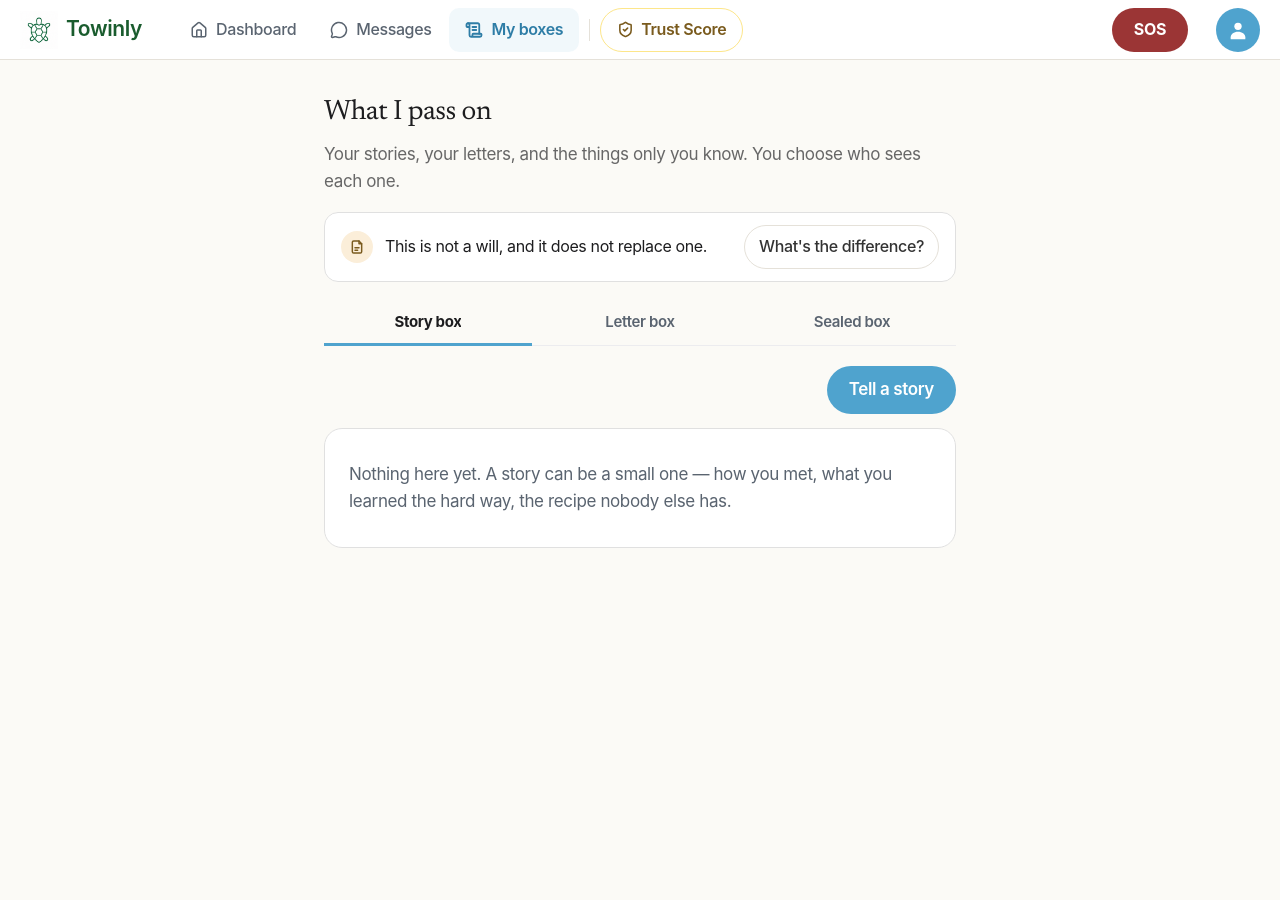
What I pass on — Story box › steers her away from the answers a bank would ask for
Click the button "Tell a story" at {"x": 891, "y": 390}, box [827,366,956,414]
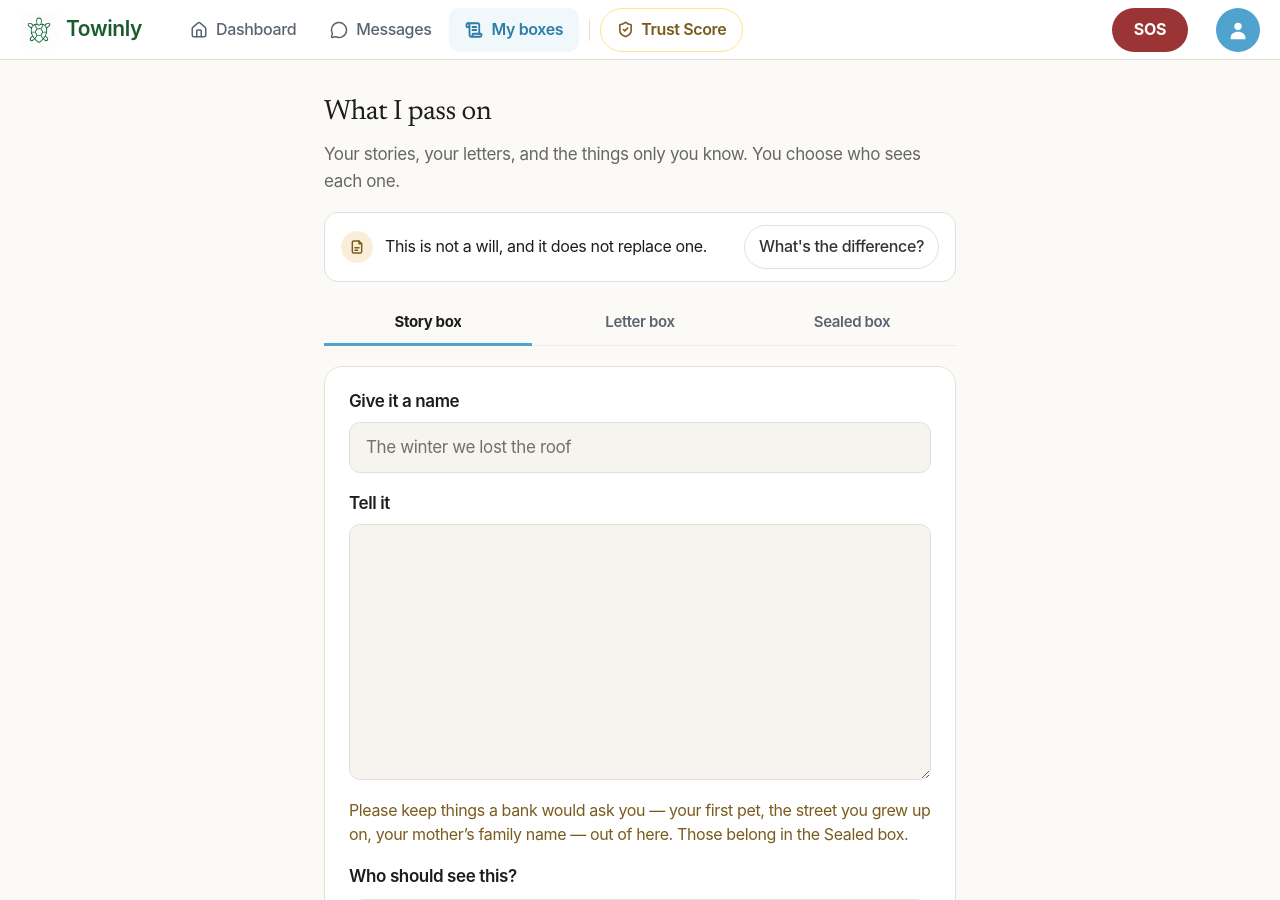
Expected: the text "Please keep things a bank would ask you — your first pet, the street you grew up on, your mother’s family name — out of " is shown, [349,800,930,844]
